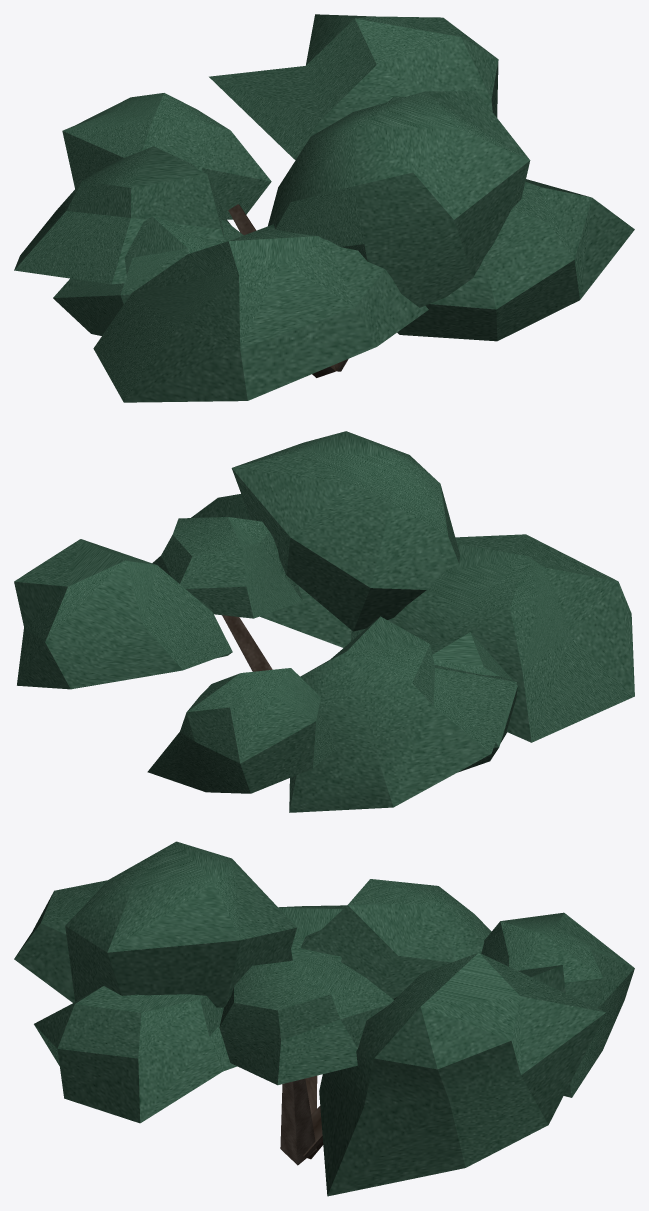
File: bush_4.glb
3 views of the same model, one above another, from view 1: azimuth 30°, elevation 25°; view 2: azimuth 150°, elevation 25°; view 3: azimuth 270°, elevation 25° (orthographic). The views are drawn at different scales.
Visible parts, largest first — view 1: bush_4; view 2: bush_4; view 3: bush_4.
Boxes of the visible parts, x1=… form: bush_4: x1=14, y1=14, x2=634, y2=402; bush_4: x1=14, y1=431, x2=634, y2=812; bush_4: x1=14, y1=841, x2=634, y2=1196.
Size of the model in its own units: 2.46 by 1.38 by 2.55.
2 materials, 2 textured.
